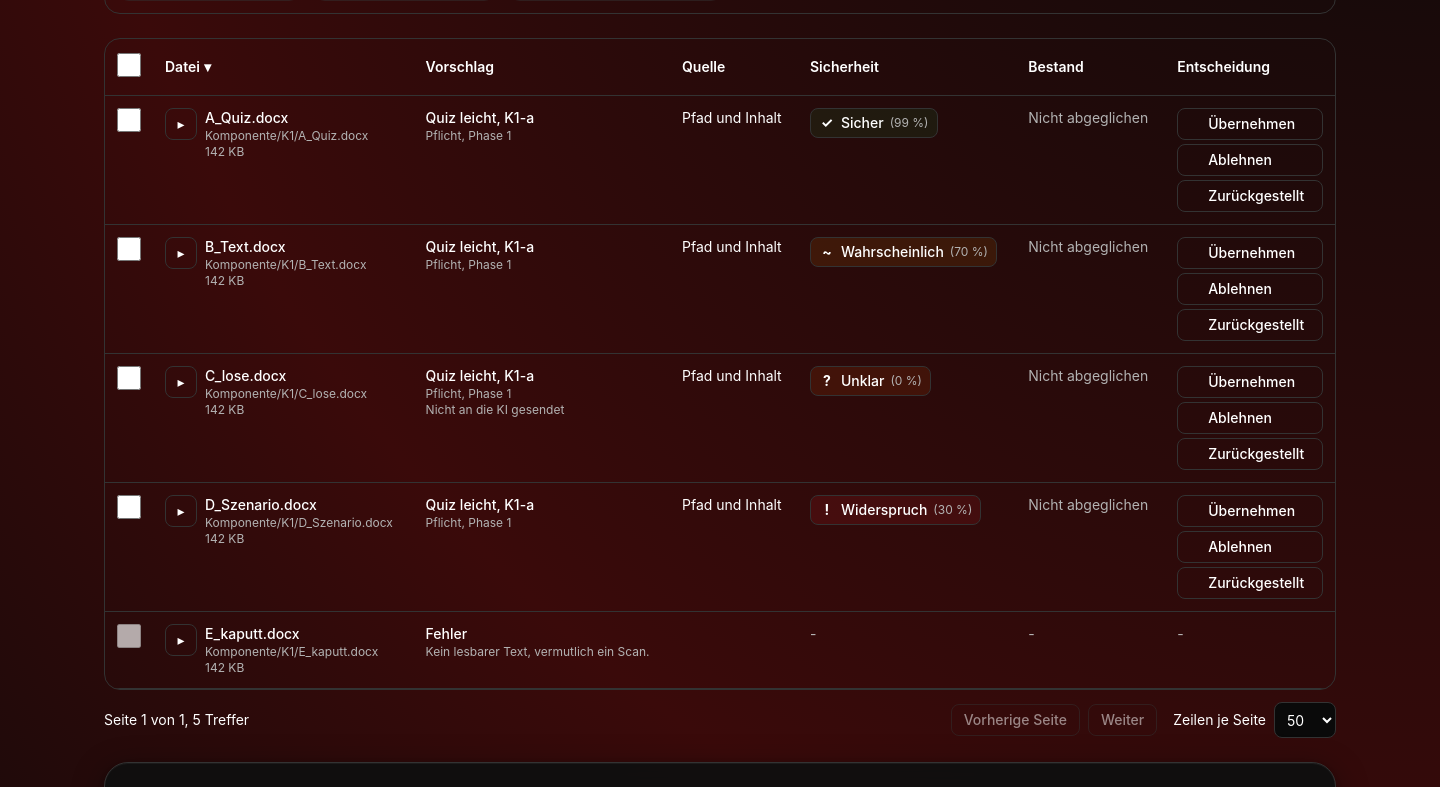
it: ReviewView: decisions › does not take an unclear proposal as it stands: it opens the editor and says why
The width and height of the screenshot is (1440, 787).
(page scrolled)
Click the button "Übernehmen" in the row of "Komponente/K1/C_lose.docx": (1250, 382) [1177,366,1323,398]
(page scrolled)
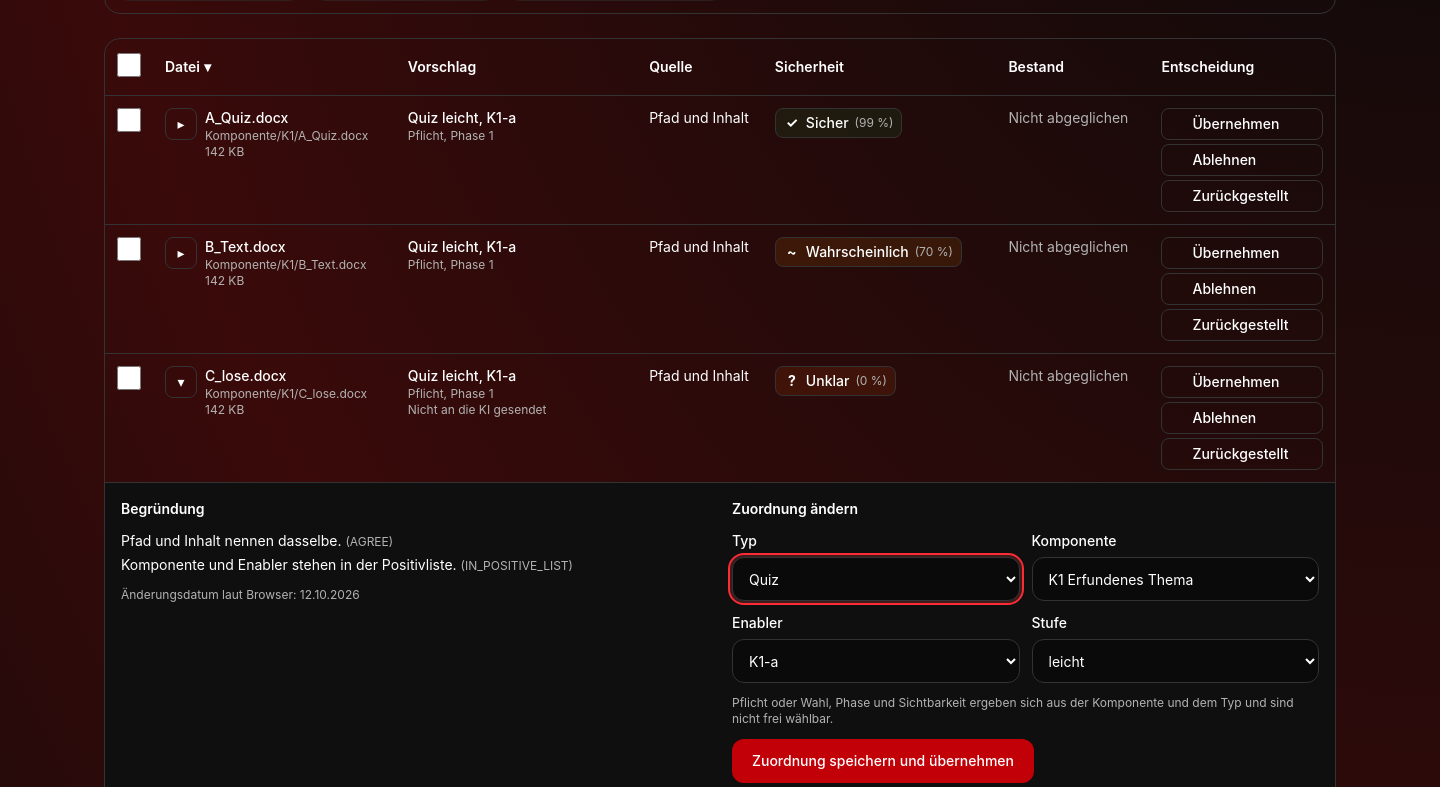
Expected: the button named "Details zu C_lose.docx ausblenden" is shown, [165,366,197,398]
